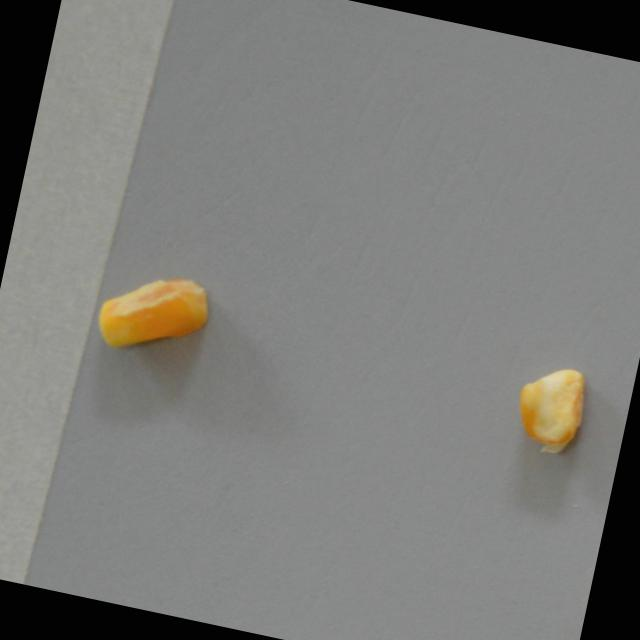pelicula: (489, 351, 618, 468), (89, 255, 218, 372), (567, 517, 605, 640)
